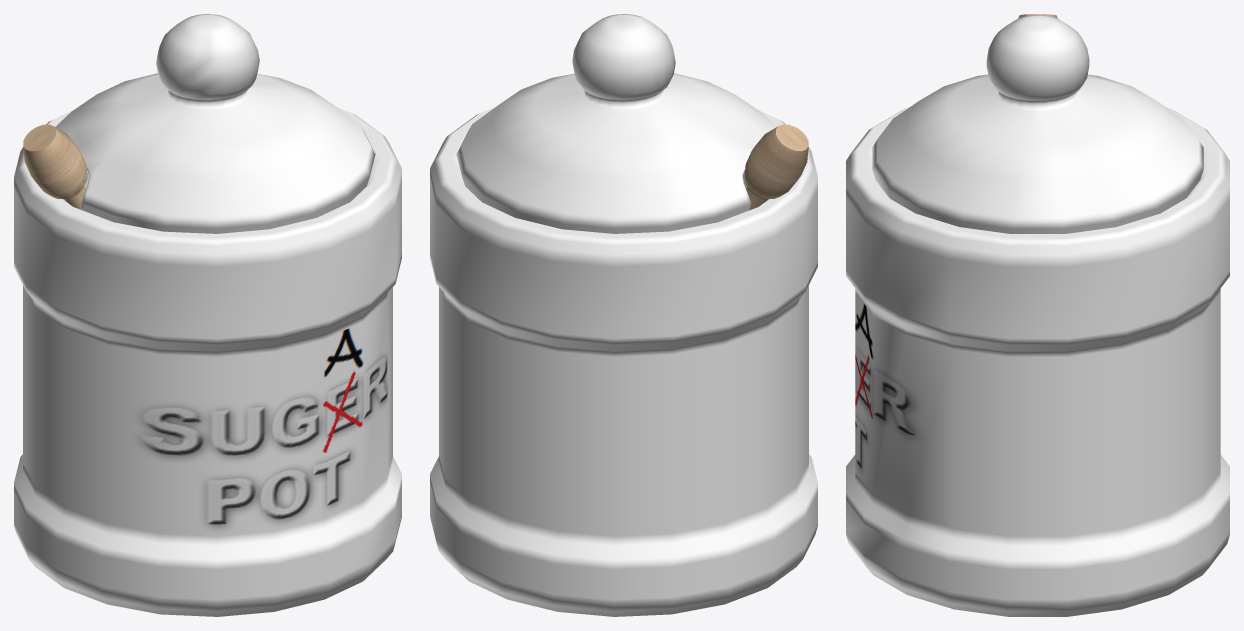
The model's file is sugar2.fbx.
3 renders of one model, left to right at view 1: azimuth 30°, elevation 25°; view 2: azimuth 150°, elevation 25°; view 3: azimuth 270°, elevation 25°, orthographic.
Visible parts, largest first — view 1: sugar2; view 2: sugar2; view 3: sugar2.
Part boxes in pixels (left/top/right/bottom): sugar2: left=14, top=14, right=401, bottom=616; sugar2: left=430, top=14, right=817, bottom=616; sugar2: left=846, top=14, right=1229, bottom=616.
Size of the model in its own units: 12.66 by 18.02 by 12.07.
